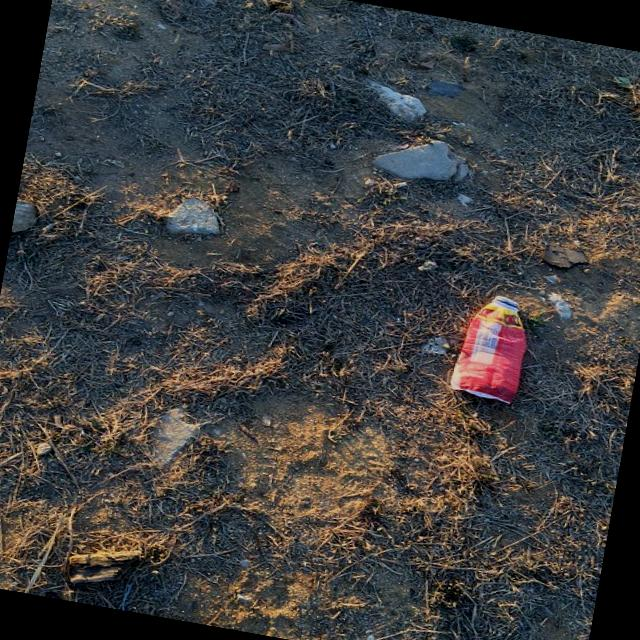Trash: (446, 288, 538, 409)
